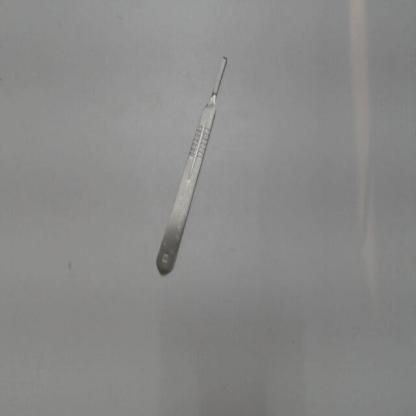No.4 BP Handle: (152, 45, 235, 280)
